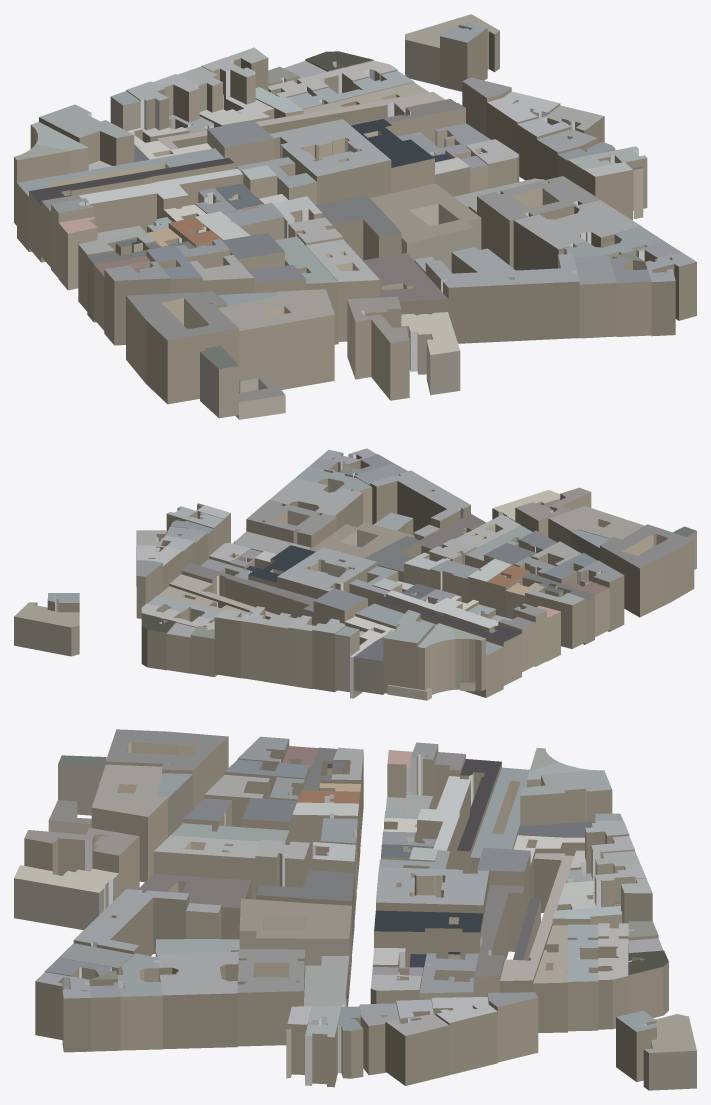
The picture shows the model from 3 angles, top to bottom: view 1: azimuth 30°, elevation 25°; view 2: azimuth 150°, elevation 25°; view 3: azimuth 270°, elevation 25°; orthographic projection. The views are drawn at different scales.
Visible parts, largest first — view 1: tuile; view 2: tuile; view 3: tuile.
Boxes of the visible parts, x1=… form: tuile: x1=14, y1=14, x2=696, y2=419; tuile: x1=14, y1=448, x2=696, y2=700; tuile: x1=14, y1=729, x2=696, y2=1090.
Bounding box in the file's own units: 273 × 41.16 × 270.
